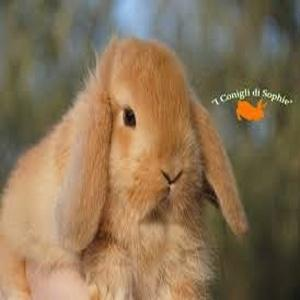rabbit: (0, 40, 249, 300)
